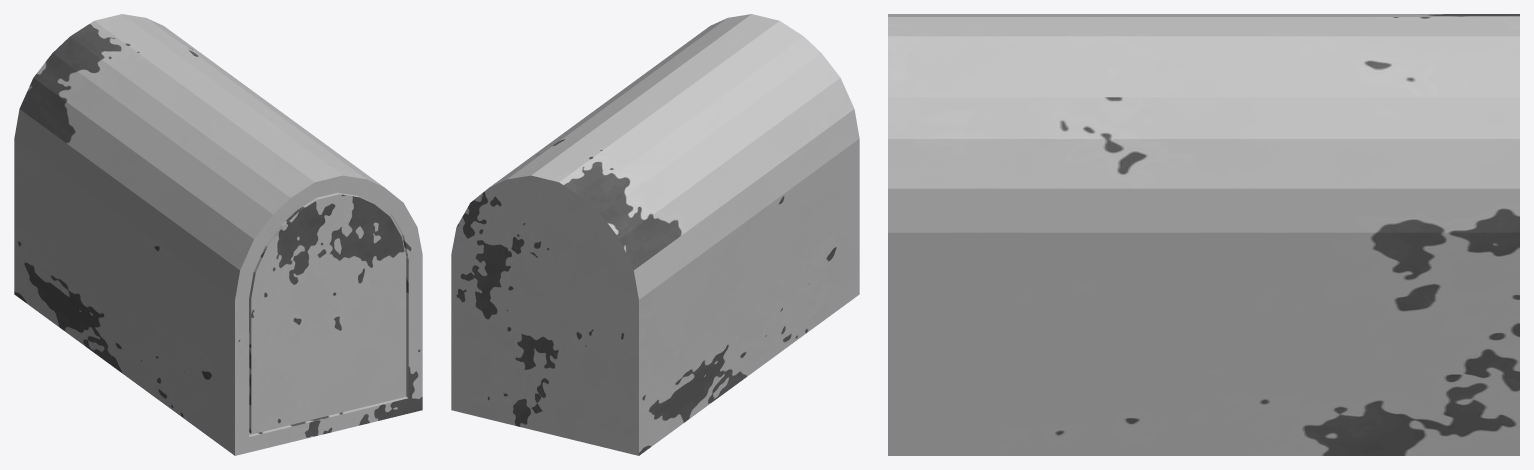
The model's file is buildig.001_peeling_paint_(metal)_(white)_0.001_lev3.glb.
3 renders of one model, left to right at view 1: azimuth 30°, elevation 25°; view 2: azimuth 150°, elevation 25°; view 3: azimuth 270°, elevation 25°, orthographic. The views are drawn at different scales.
Parts seen in each view (by area): view 1: buildig.001_peeling_paint_(metal)_(white)_0.001_lev3; view 2: buildig.001_peeling_paint_(metal)_(white)_0.001_lev3; view 3: buildig.001_peeling_paint_(metal)_(white)_0.001_lev3.
Part boxes in pixels (<box>): buildig.001_peeling_paint_(metal)_(white)_0.001_lev3: <box>14,14,422,455</box>; buildig.001_peeling_paint_(metal)_(white)_0.001_lev3: <box>451,14,859,455</box>; buildig.001_peeling_paint_(metal)_(white)_0.001_lev3: <box>888,14,1519,455</box>.
Bounding box in the file's own units: 0.1105 × 0.1431 × 0.2252.
Materials: 1 (1 with a texture image).
